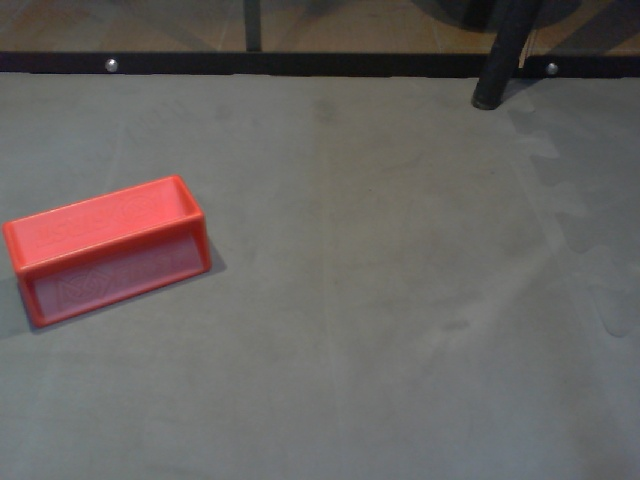RedSample: (1, 172, 214, 332)
